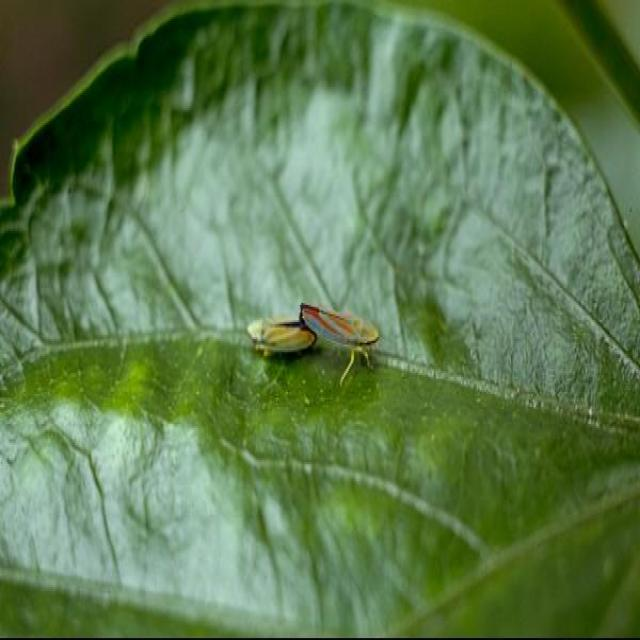Yechan: (299, 287, 392, 353), (245, 303, 318, 356)
